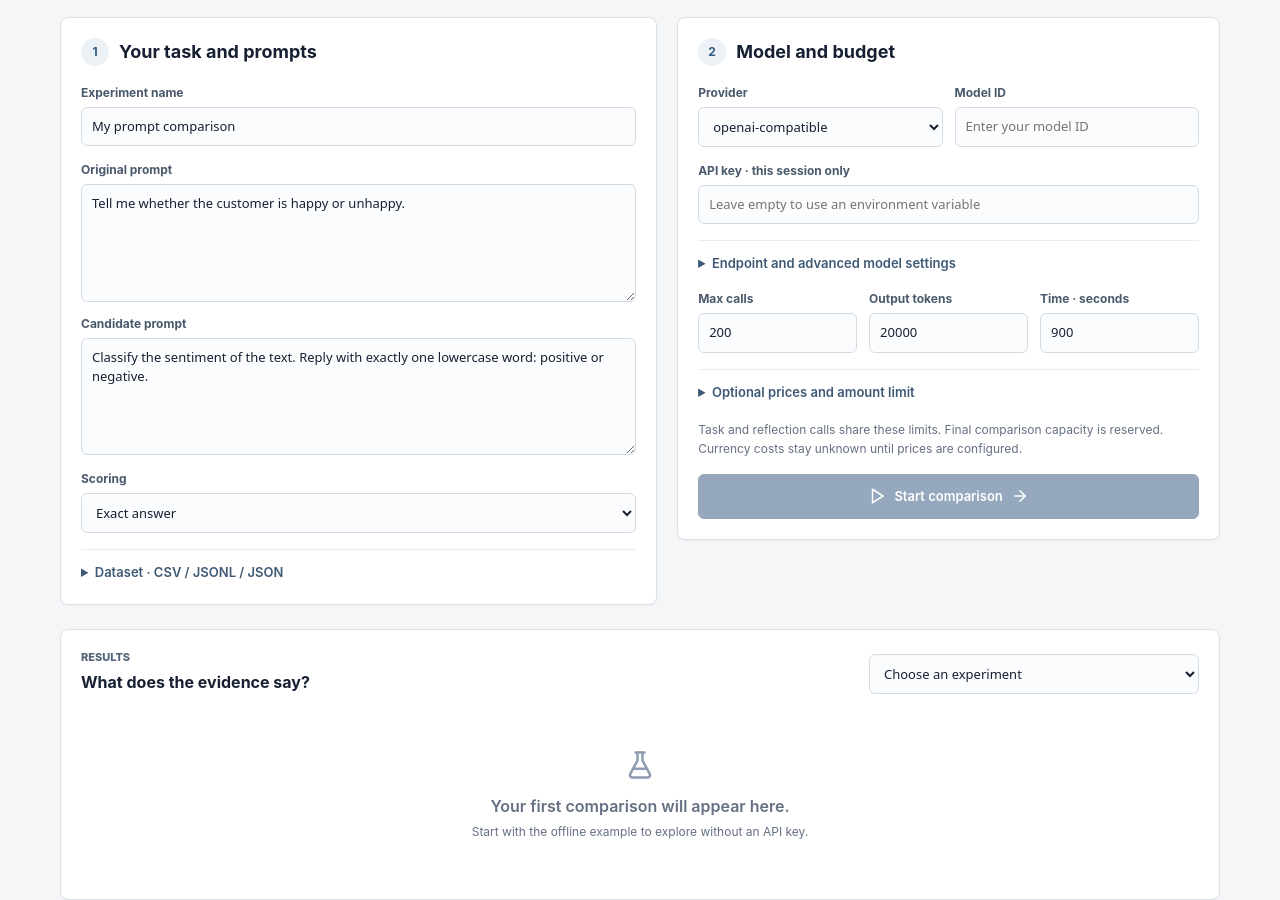
Test: experiment workspace › labels estimated and reported costs separately with currency
(page scrolled)
Select "Synthetic comparison · completed" in the dropdown named "Select experiment". click: point(1034, 674)
box: [869,654,1199,694]
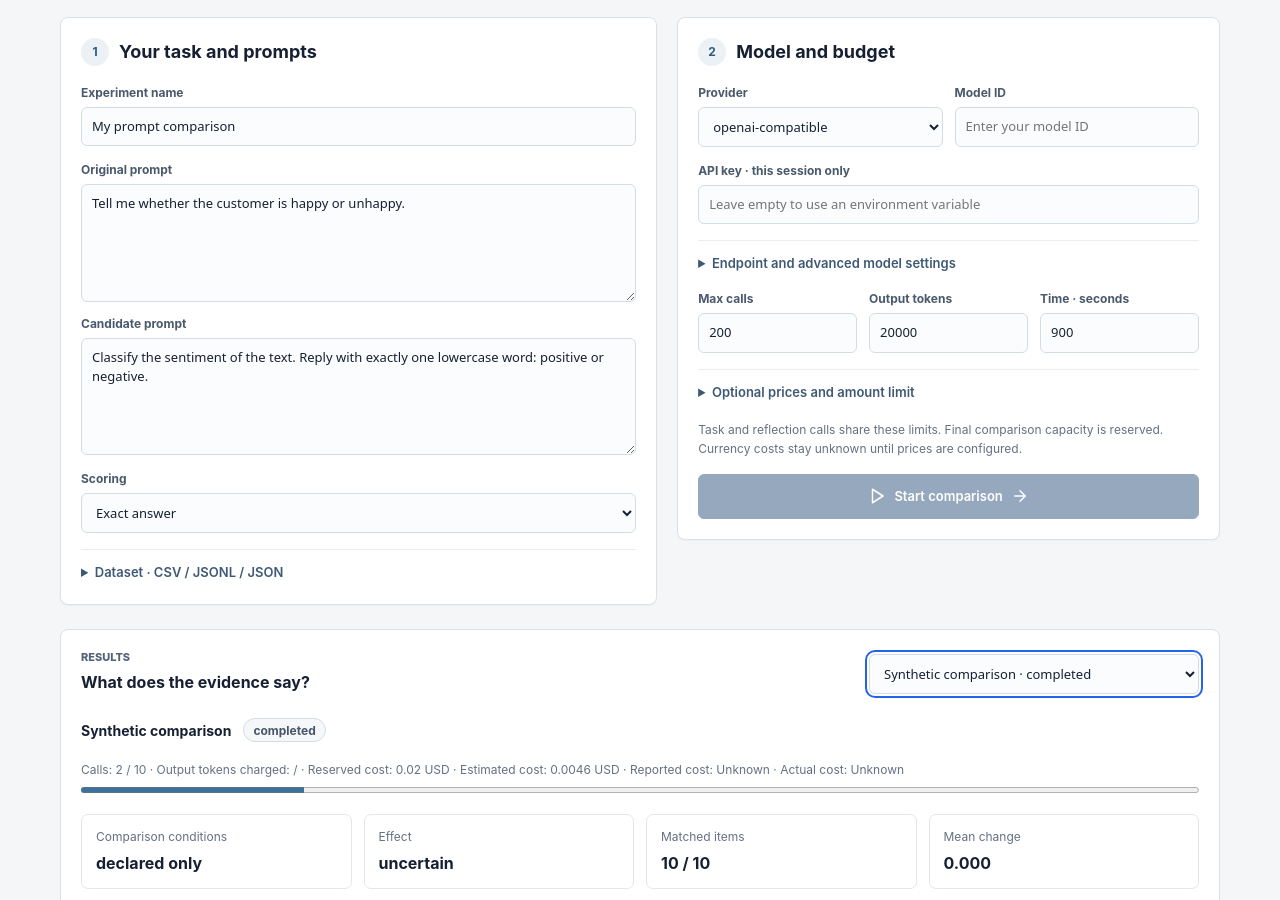
Check: the text "· Estimated cost: 0.0046 USD" is shown, box [450,762,620,777]
Check: the text "· Actual cost: Unknown" is shown, box [770,762,904,777]
Check: the text "· Reported cost: Unknown" is shown, box [620,762,770,777]
